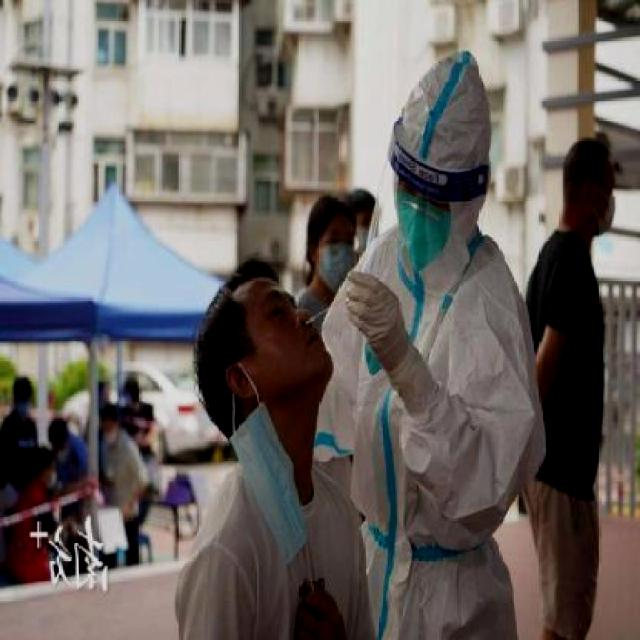face_mask: (396, 169, 456, 274), (313, 222, 362, 290), (589, 172, 620, 238)
face_nomask: (252, 280, 340, 388)
hand_glove: (345, 276, 406, 361)
hand_noglove: (296, 572, 350, 638)
head_nohelmet: (189, 246, 268, 357), (312, 186, 360, 231), (562, 129, 612, 169)
person: (326, 55, 525, 640), (145, 247, 348, 640), (507, 121, 625, 640)
